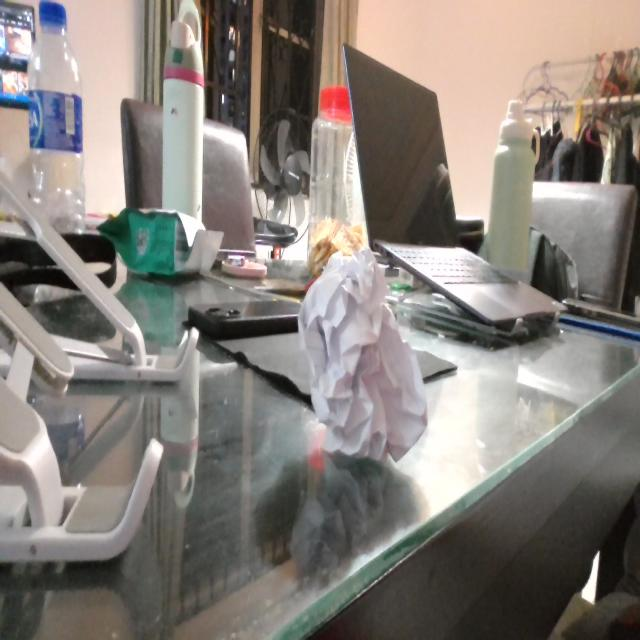crumpled_paper: (296, 249, 429, 468)
